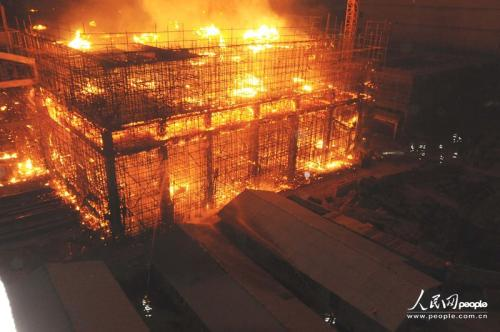fire: (25, 11, 368, 210)
